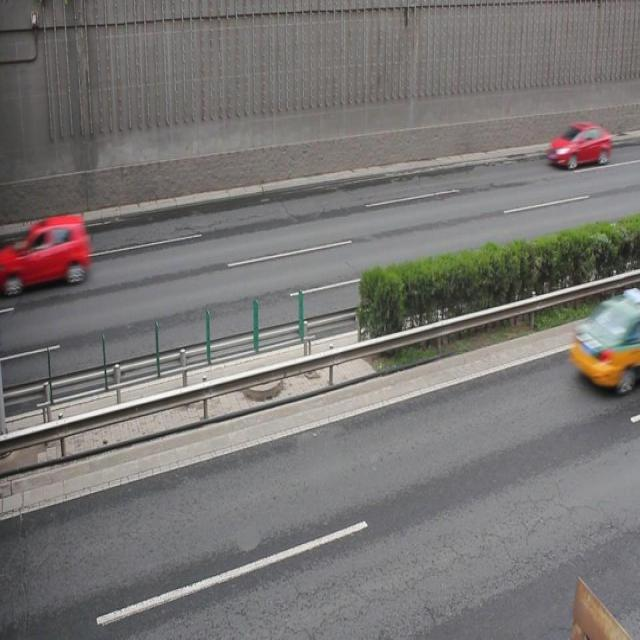car: (568, 290, 640, 393), (1, 214, 88, 291), (544, 121, 610, 169)
